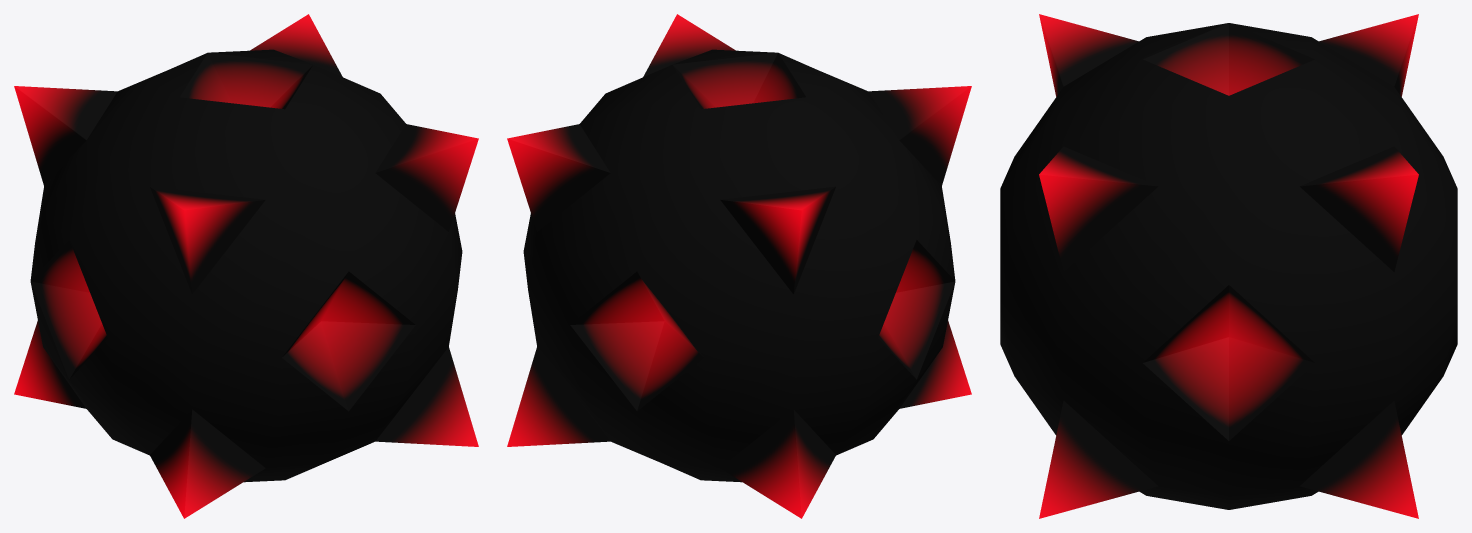
Rendered from BombEnemy.fbx.
The picture shows the model from 3 angles, left to right: view 1: azimuth 30°, elevation 25°; view 2: azimuth 150°, elevation 25°; view 3: azimuth 270°, elevation 25°; orthographic projection. The views are drawn at different scales.
Parts seen in each view (by area): view 1: Bomb_bake; view 2: Bomb_bake; view 3: Bomb_bake.
Part boxes in pixels (x1,y1,x2,y2): Bomb_bake: (14, 14, 478, 518); Bomb_bake: (507, 14, 971, 518); Bomb_bake: (1000, 14, 1457, 518).
Bounding box in the file's own units: 5.43 × 5.43 × 5.43.
1 material, 1 textured.
